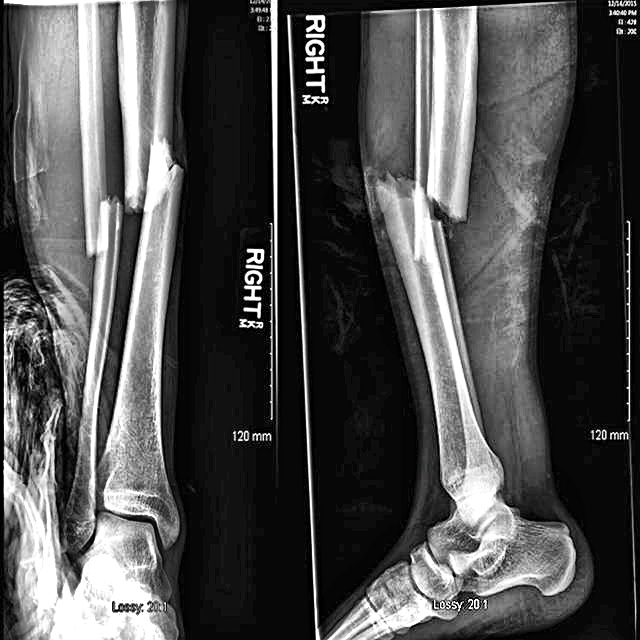Transverse: (366, 143, 487, 281), (123, 139, 195, 224), (69, 181, 130, 265)
